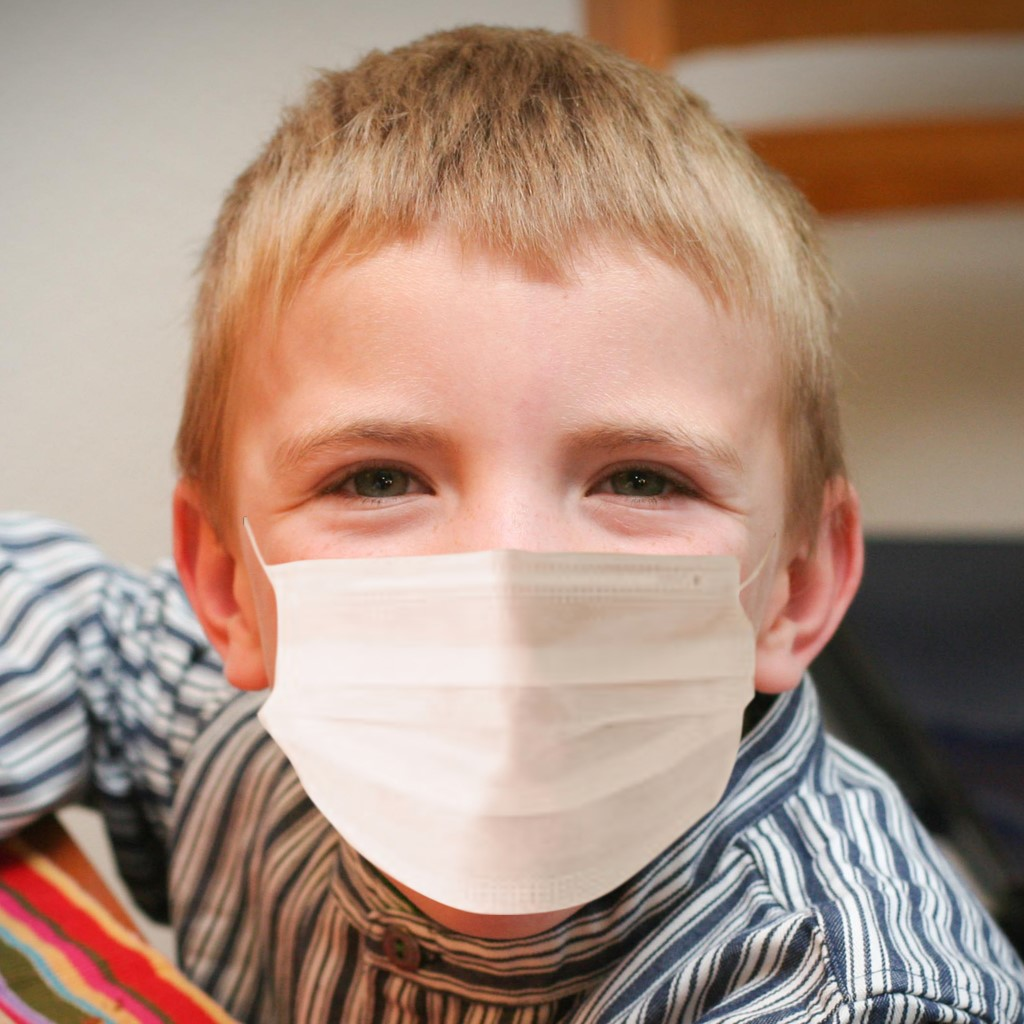con_mascara: (214, 164, 803, 916)
